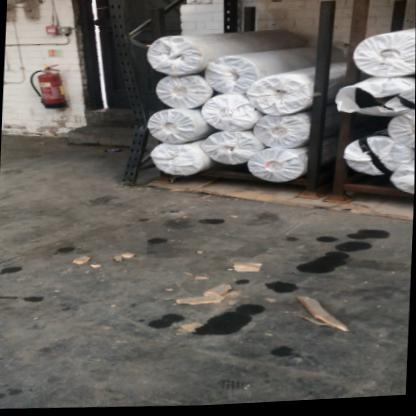vertical_damage: (117, 70, 161, 155)
